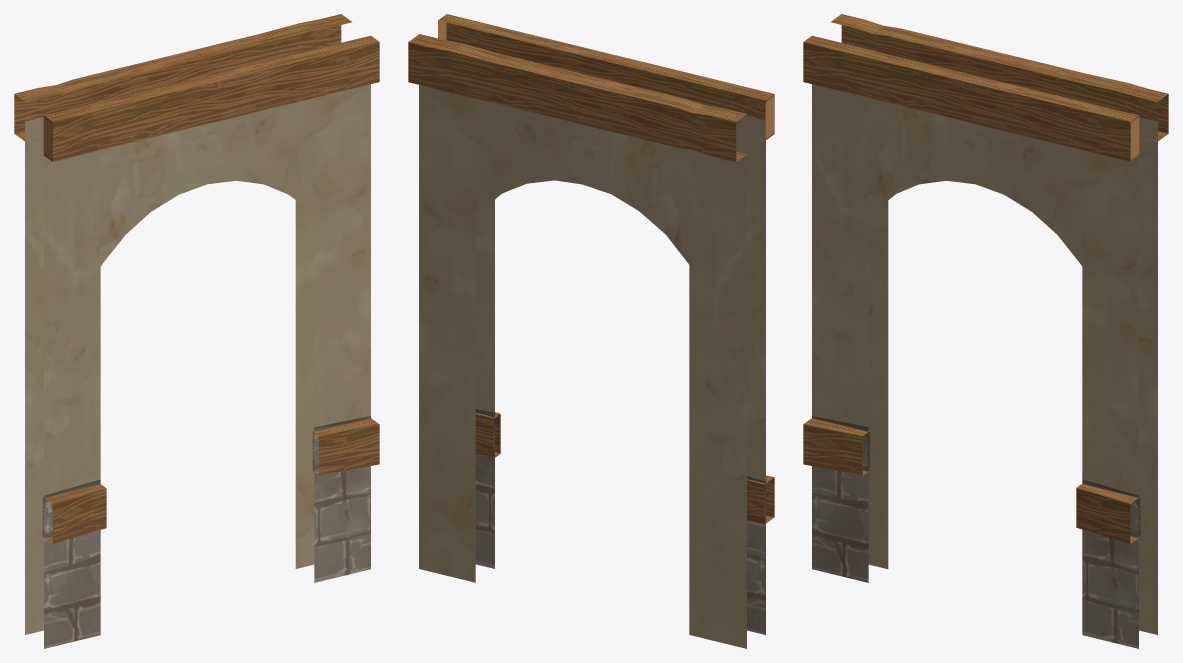
The model's file is Wall_Plaster_Door_Round.glb.
3 views of the same model, side by side, from view 1: azimuth 30°, elevation 25°; view 2: azimuth 150°, elevation 25°; view 3: azimuth 330°, elevation 25° (orthographic).
Parts seen in each view (by area): view 1: Wall_Plaster_Door_Round; view 2: Wall_Plaster_Door_Round; view 3: Wall_Plaster_Door_Round.
Part boxes in pixels (left/top/right/bottom): Wall_Plaster_Door_Round: left=14, top=14, right=379, bottom=648; Wall_Plaster_Door_Round: left=408, top=14, right=774, bottom=648; Wall_Plaster_Door_Round: left=803, top=14, right=1168, bottom=648.
Size of the model in its own units: 2 by 3.12 by 0.4065.
3 materials, 3 textured.
